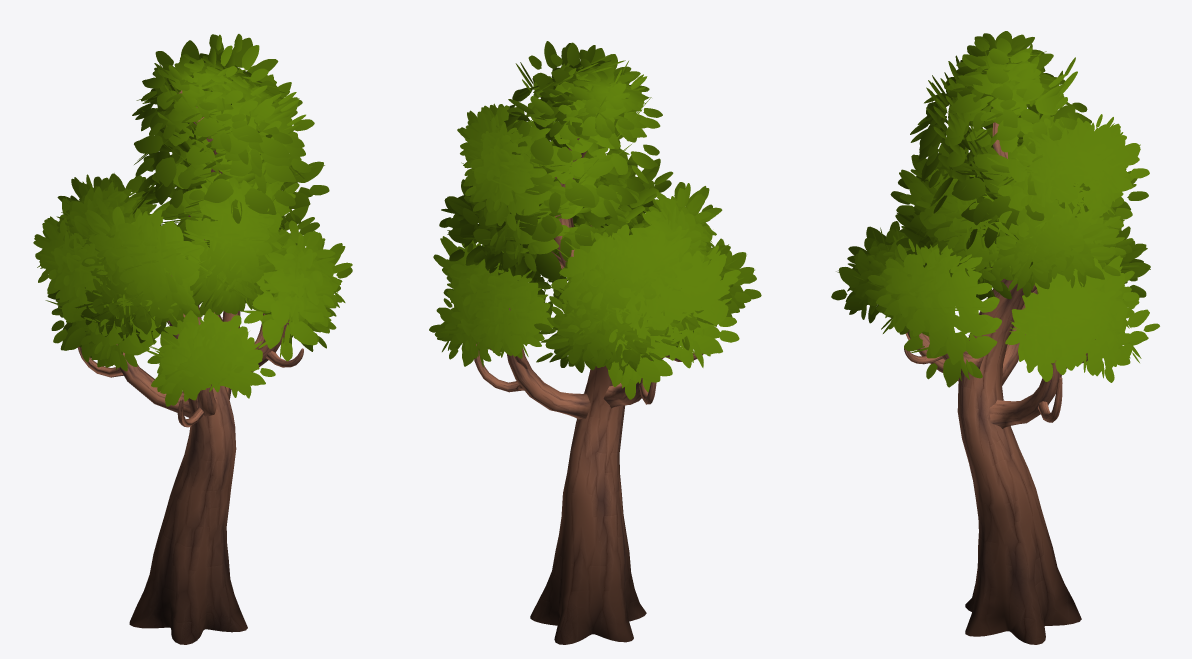
The model's file is tree1.glb.
The picture shows the model from 3 angles, left to right: view 1: azimuth 30°, elevation 25°; view 2: azimuth 150°, elevation 25°; view 3: azimuth 270°, elevation 25°; orthographic projection. The views are drawn at different scales.
Parts seen in each view (by area): view 1: CommonTree_2; view 2: CommonTree_2; view 3: CommonTree_2.
Part boxes in pixels (x1,y1,x2,y2): CommonTree_2: (33, 34, 352, 644); CommonTree_2: (429, 41, 761, 644); CommonTree_2: (831, 31, 1159, 644).
Bounding box in the file's own units: 4.46 × 7.64 × 4.28.
2 materials, 2 textured.
